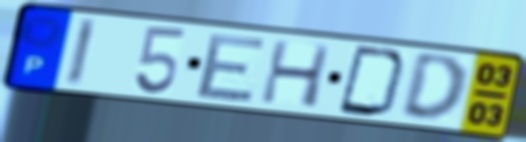5: (132, 25, 188, 96)
D: (334, 43, 411, 120), (397, 53, 469, 126)
E: (192, 32, 270, 104)
H: (257, 38, 335, 110)
I: (62, 15, 101, 89)
